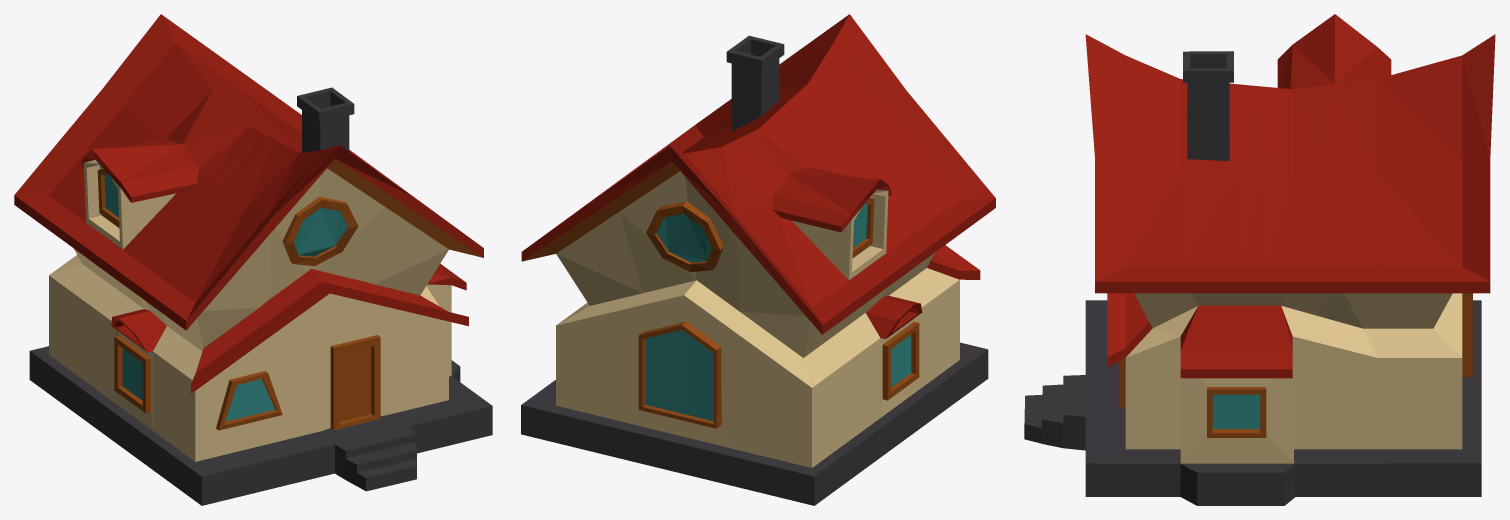
File: house.dae
The picture shows the model from 3 angles, left to right: view 1: azimuth 30°, elevation 25°; view 2: azimuth 150°, elevation 25°; view 3: azimuth 270°, elevation 25°; orthographic projection. The views are drawn at different scales.
Parts seen in each view (by area): view 1: house, window; view 2: house, window_001; view 3: house.
Part boxes in pixels (x1,y1,x2,y2): house: (14, 14, 492, 505); window: (282, 196, 358, 266); house: (521, 14, 995, 505); window_001: (646, 201, 723, 272); house: (1024, 14, 1495, 505).
Size of the model in its own units: 6.13 by 6.83 by 6.03.
